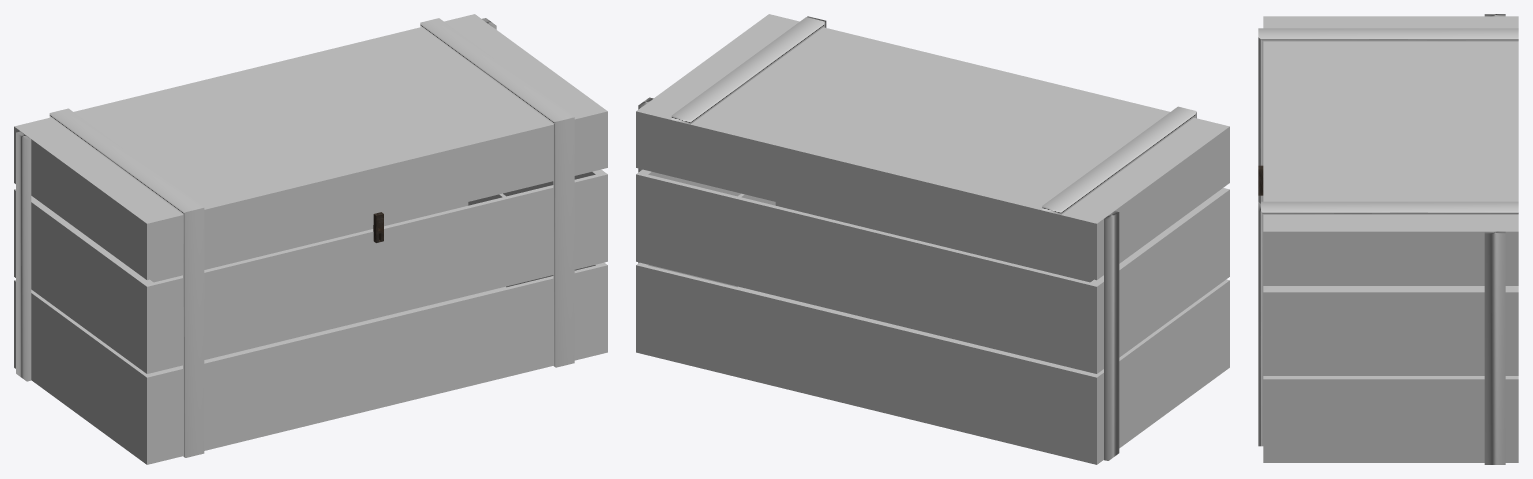
Rendered from Amazonie_Coffre.fbx.
The picture shows the model from 3 angles, left to right: view 1: azimuth 30°, elevation 25°; view 2: azimuth 150°, elevation 25°; view 3: azimuth 270°, elevation 25°; orthographic projection. The views are drawn at different scales.
Parts seen in each view (by area): view 1: Cube, Cube.002, Cube.003, Cube.004; view 2: Cube, Cube.003, Cube.004; view 3: Cube, Cube.003, Cube.005, Cube.002.
Boxes of the visible parts, left/top/right/bottom form: Cube: left=14, top=14, right=607, bottom=464; Cube.002: left=183, top=117, right=574, bottom=457; Cube.003: left=49, top=18, right=573, bottom=214; Cube.004: left=16, top=131, right=31, bottom=381; Cube: left=636, top=14, right=1229, bottom=464; Cube.003: left=671, top=17, right=1196, bottom=214; Cube.004: left=1104, top=211, right=1119, bottom=460; Cube: left=1263, top=16, right=1518, bottom=462; Cube.003: left=1258, top=28, right=1518, bottom=214; Cube.005: left=1484, top=231, right=1505, bottom=464; Cube.002: left=1258, top=37, right=1263, bottom=446.
Size of the model in its own units: 408 by 204 by 204.
